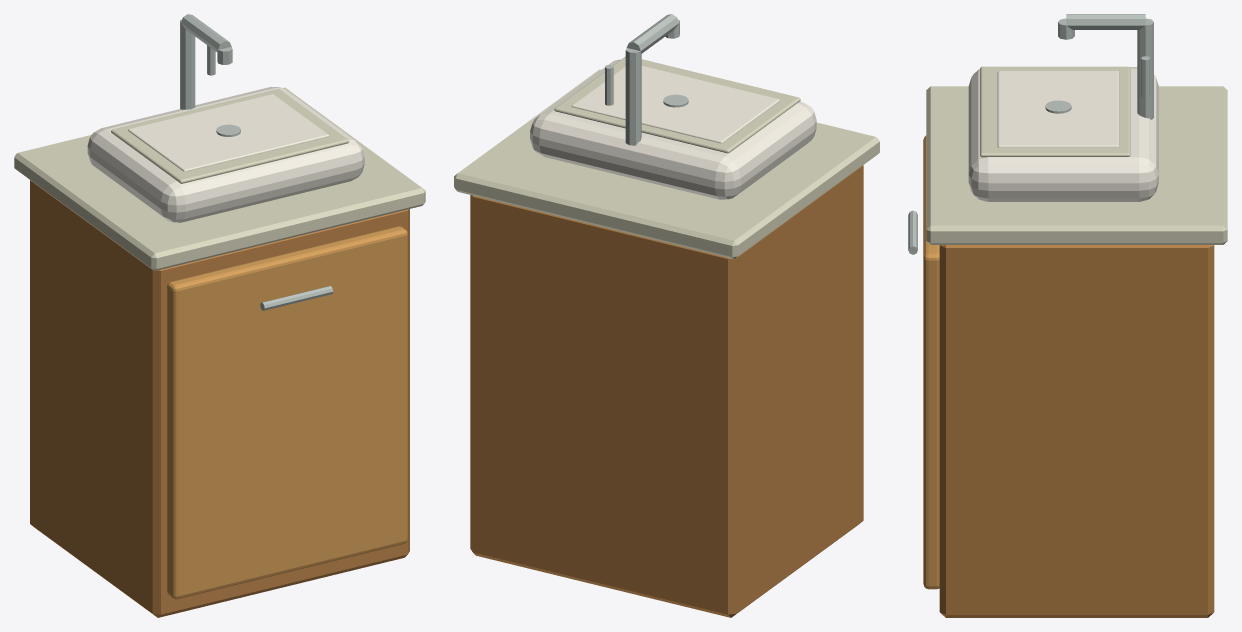
The model's file is sink_cabinet.glb.
3 views of the same model, side by side, from view 1: azimuth 30°, elevation 25°; view 2: azimuth 150°, elevation 25°; view 3: azimuth 270°, elevation 25° (orthographic). The views are drawn at different scales.
Visible parts, largest first — view 1: sink_cabinet__oak_top, sink_cabinet__oak, sink_cabinet__stone, sink_cabinet__ceramic, sink_cabinet__white, sink_cabinet__steel; view 2: sink_cabinet__oak, sink_cabinet__stone, sink_cabinet__ceramic, sink_cabinet__white, sink_cabinet__steel; view 3: sink_cabinet__oak, sink_cabinet__stone, sink_cabinet__ceramic, sink_cabinet__white, sink_cabinet__oak_top, sink_cabinet__steel.
Boxes of the visible parts, <box> form: sink_cabinet__oak_top: <box>167,226,407,599</box>; sink_cabinet__oak: <box>30,180,409,617</box>; sink_cabinet__stone: <box>14,87,425,270</box>; sink_cabinet__ceramic: <box>87,86,364,222</box>; sink_cabinet__white: <box>128,94,329,171</box>; sink_cabinet__steel: <box>180,14,333,310</box>; sink_cabinet__oak: <box>470,165,863,617</box>; sink_cabinet__stone: <box>454,56,879,259</box>; sink_cabinet__ceramic: <box>530,59,816,199</box>; sink_cabinet__white: <box>571,65,780,143</box>; sink_cabinet__steel: <box>605,14,688,145</box>; sink_cabinet__oak: <box>939,245,1214,617</box>; sink_cabinet__stone: <box>926,66,1227,244</box>; sink_cabinet__ceramic: <box>968,67,1158,201</box>; sink_cabinet__white: <box>997,70,1119,147</box>; sink_cabinet__oak_top: <box>923,135,939,589</box>; sink_cabinet__steel: <box>908,14,1153,254</box>.
Size of the model in its own units: 0.64 by 1.13 by 0.604.
